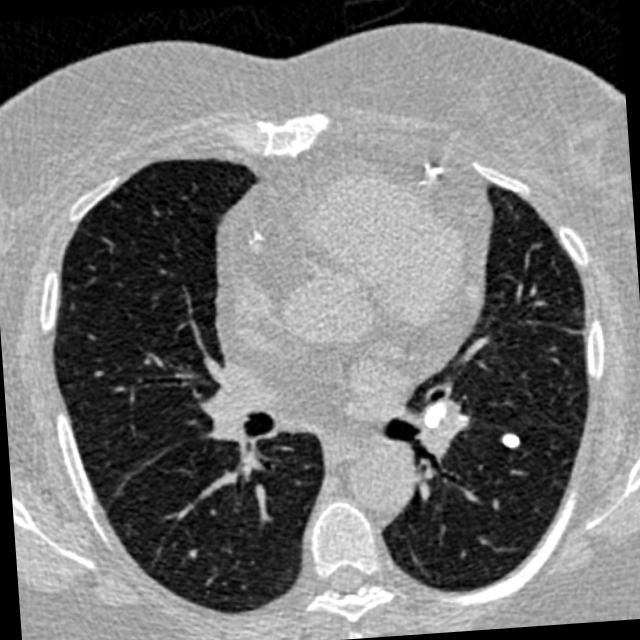nodule: (492, 421, 528, 458)
